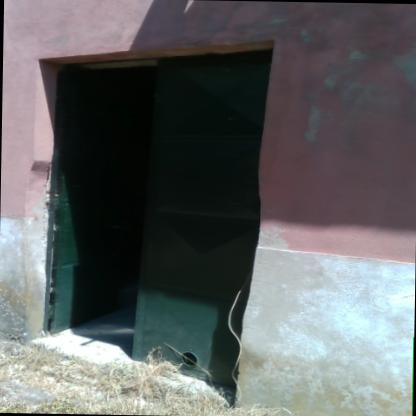semi: (28, 40, 280, 377)
